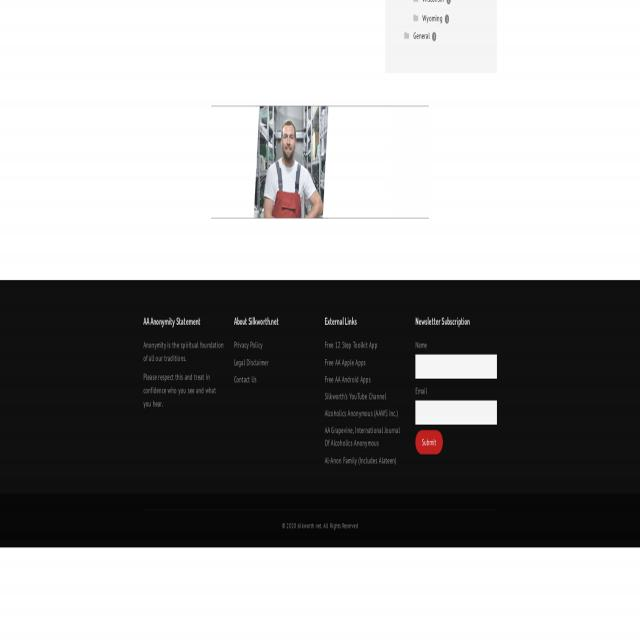button: (415, 430, 443, 455)
field: (415, 354, 497, 379), (415, 400, 497, 425)
